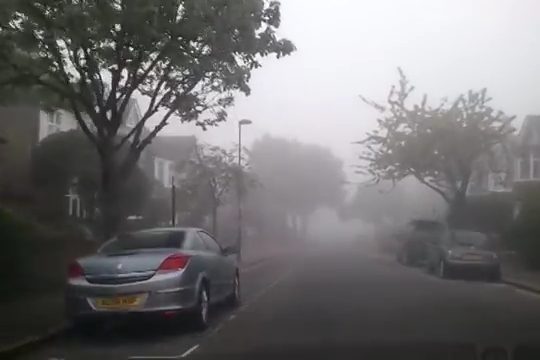car: (62, 224, 242, 338), (428, 228, 500, 281), (391, 218, 450, 269)
